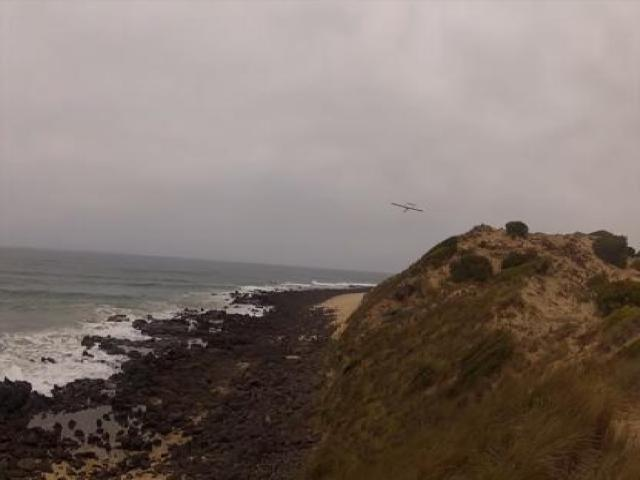uav: (388, 195, 426, 222)
